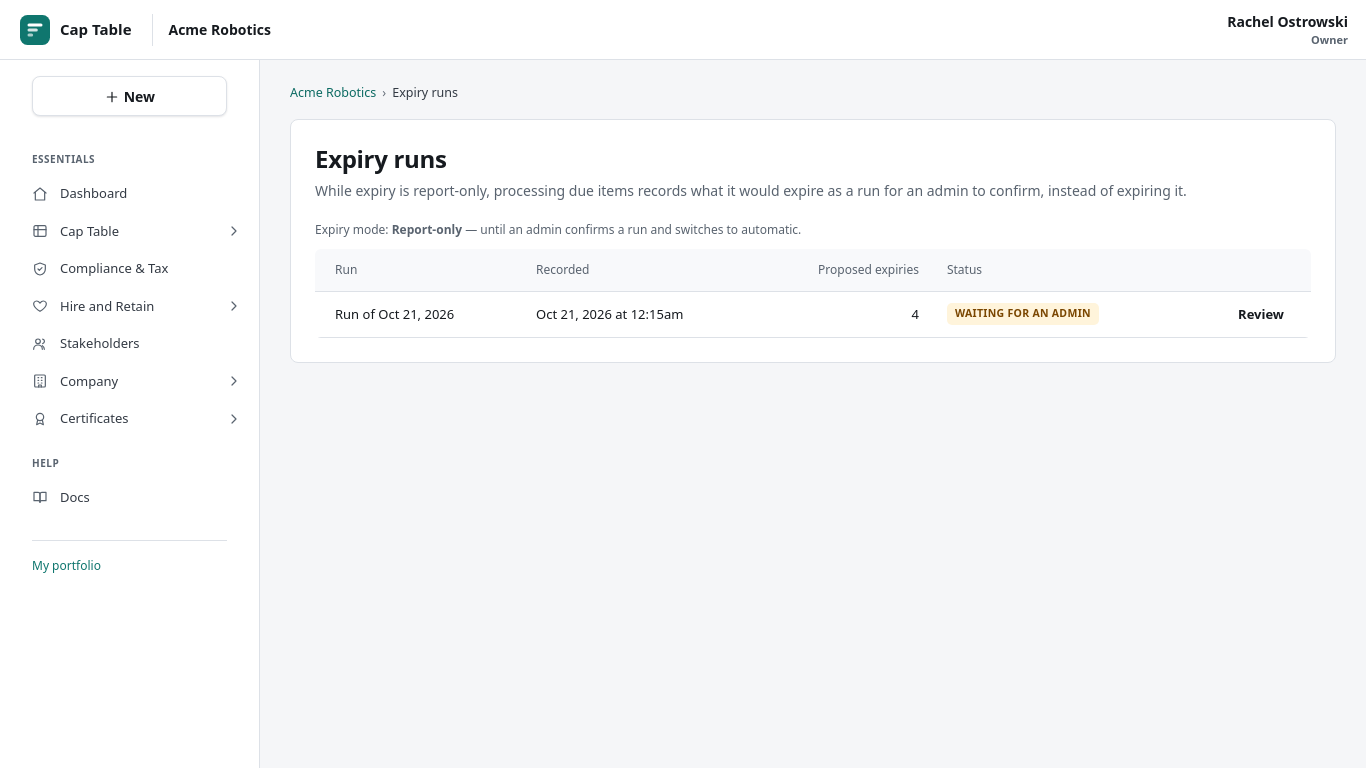
Test: expiry runs: confirming a run › checks again after a stale head (nothing expired), marks what changed, and confirms at the new head with a new key
Click the button with aria-label "Review the run of Oct 21, 2026" at [1261, 314], box top-left (1225, 298), bottom-right (1297, 330)
(page scrolled)
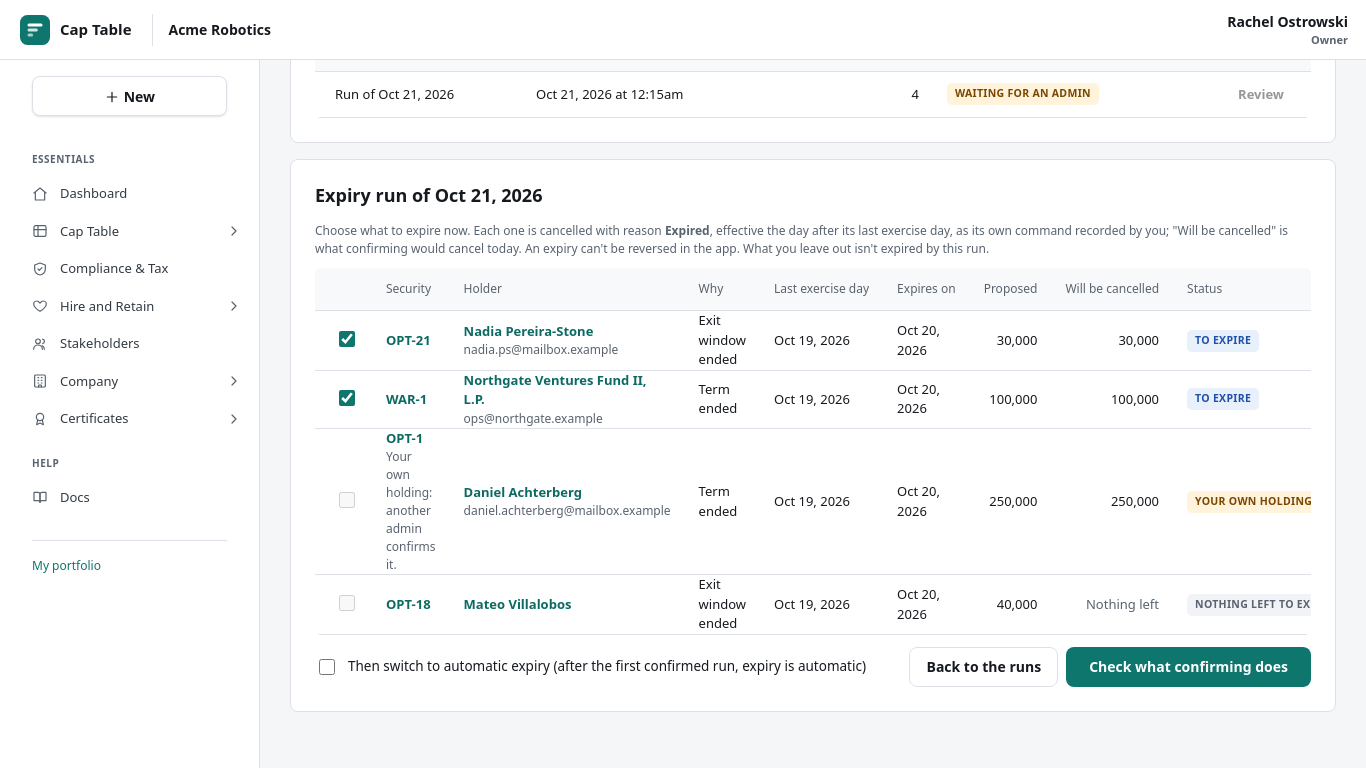
Click the button "Check what confirming does" at [1189, 667], box top-left (1066, 647), bottom-right (1311, 687)
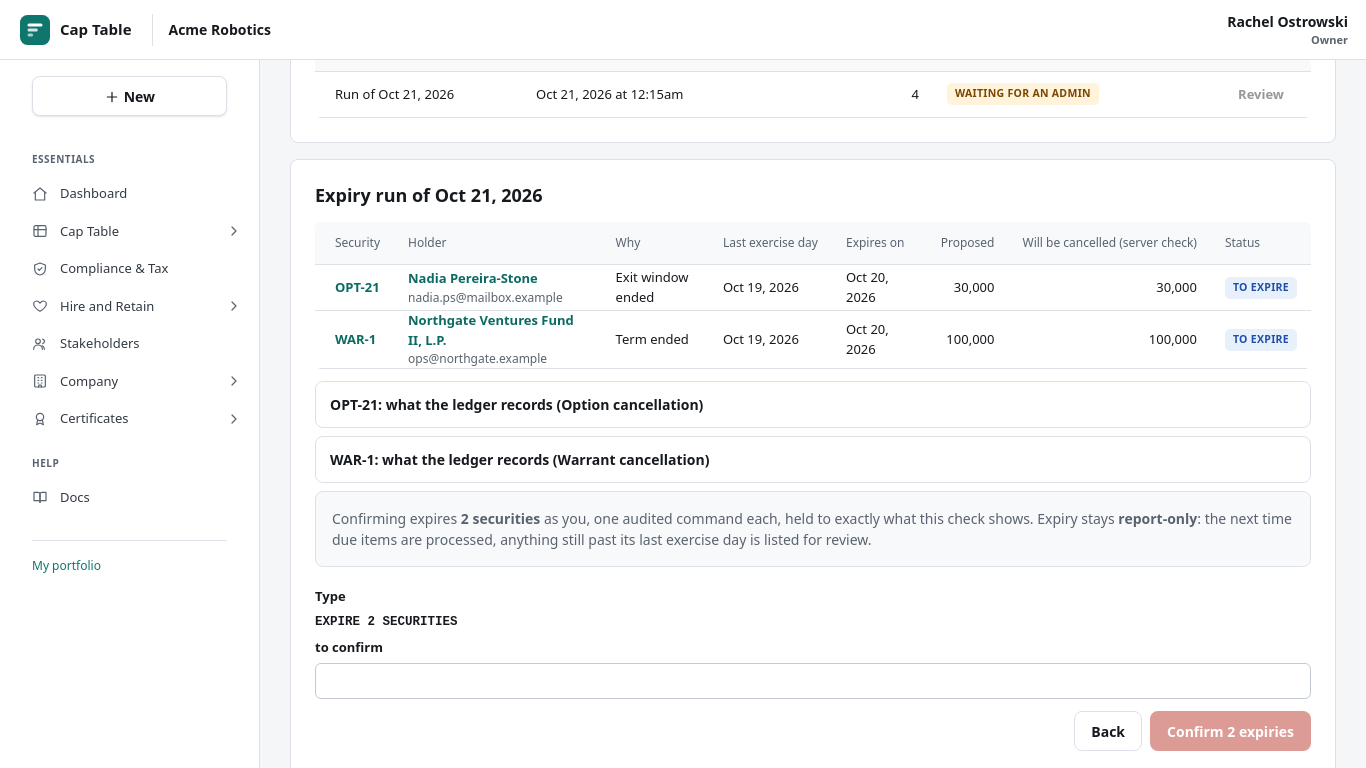
expect the field labelled "Type EXPIRE 2 SECURITIES to confirm" is shown: met
Type "EXPIRE 2 SECURITIES" into the field labelled "Type EXPIRE 2 SECURITIES to confirm" at [813, 681], box top-left (315, 663), bottom-right (1311, 699)
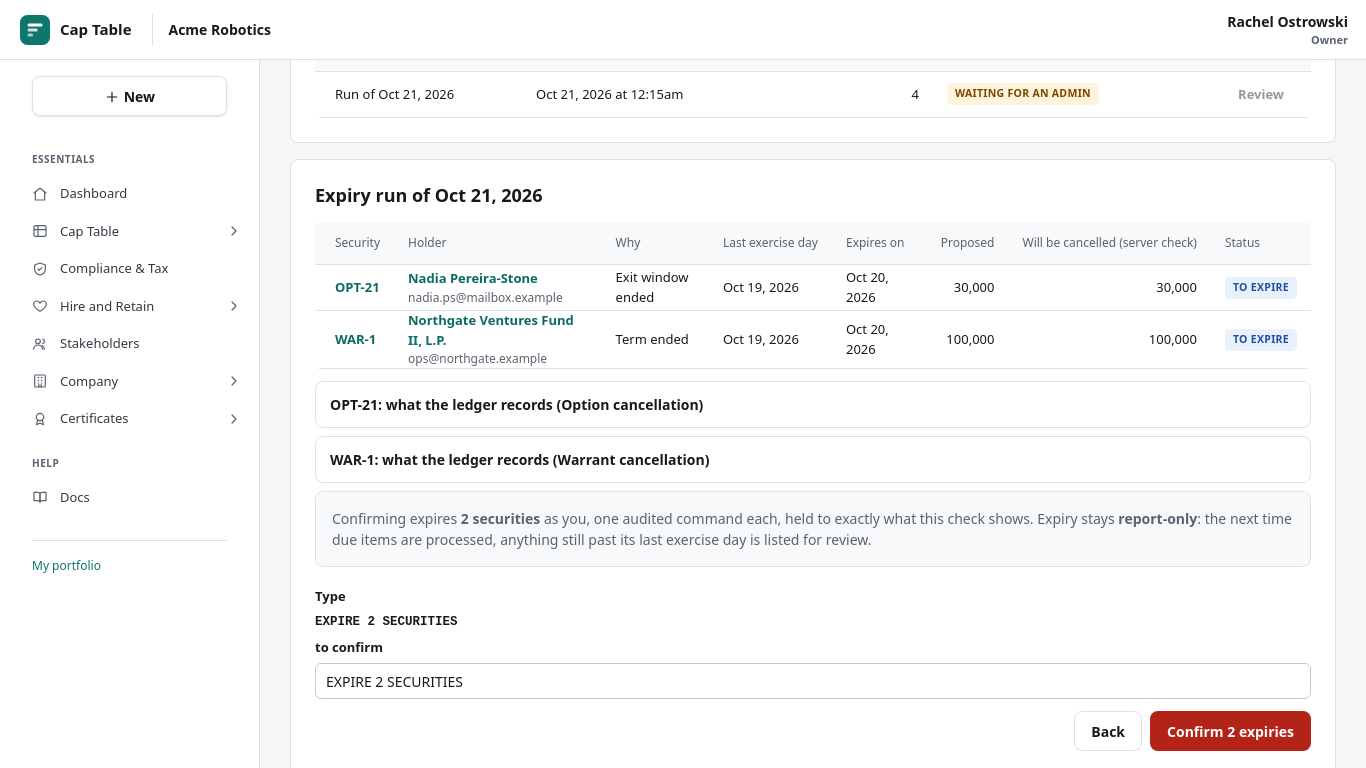
Click the button "Confirm 2 expiries" at [1230, 731], box top-left (1150, 711), bottom-right (1311, 751)
(page scrolled)
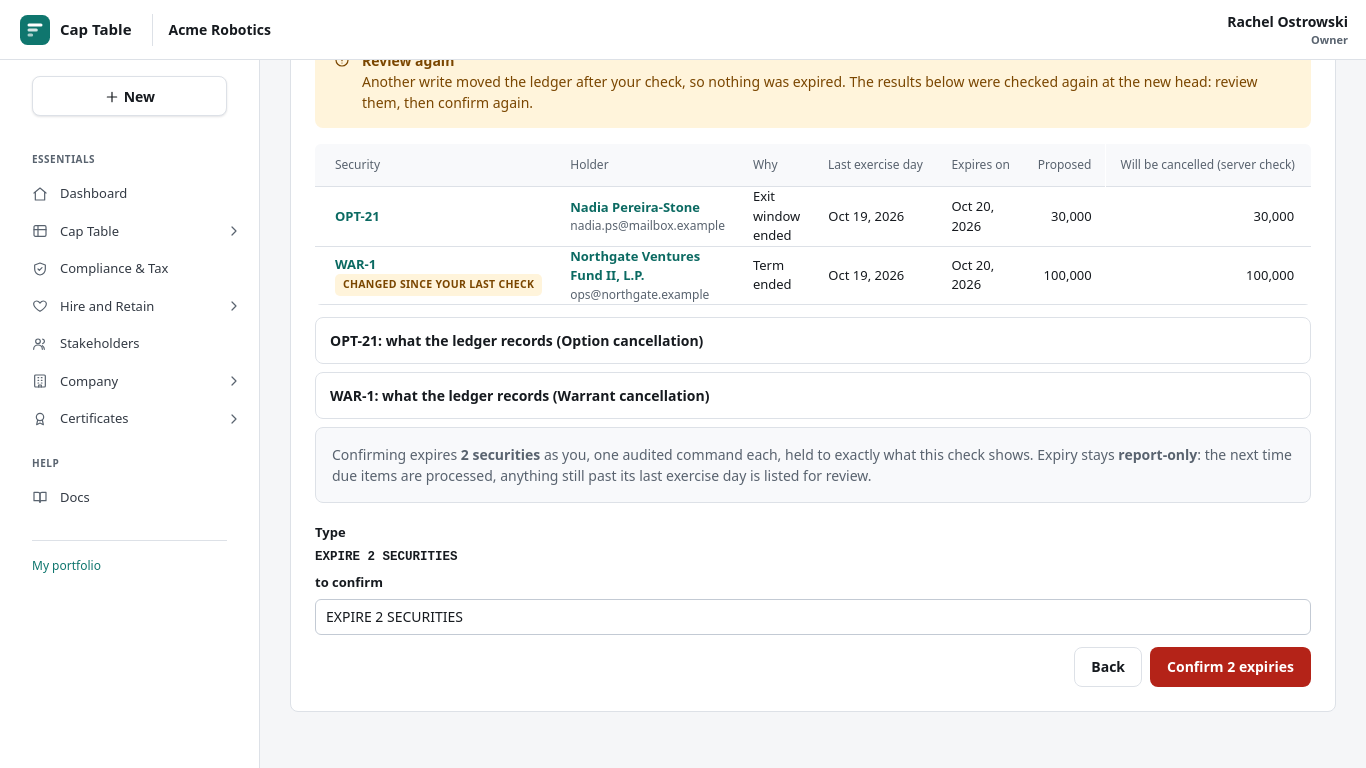
expect the row does not show "Changed since your last check": met
expect the text "Another write moved the ledger after your check, so nothing was expired" is shown: met, box top-left (362, 72), bottom-right (1258, 112)
expect the row that starts with "WAR-1" shows "Changed since your last check": met, box top-left (343, 277), bottom-right (534, 291)
Click the button "Confirm 2 expiries" at [1230, 666], box top-left (1150, 646), bottom-right (1311, 686)
(page scrolled)
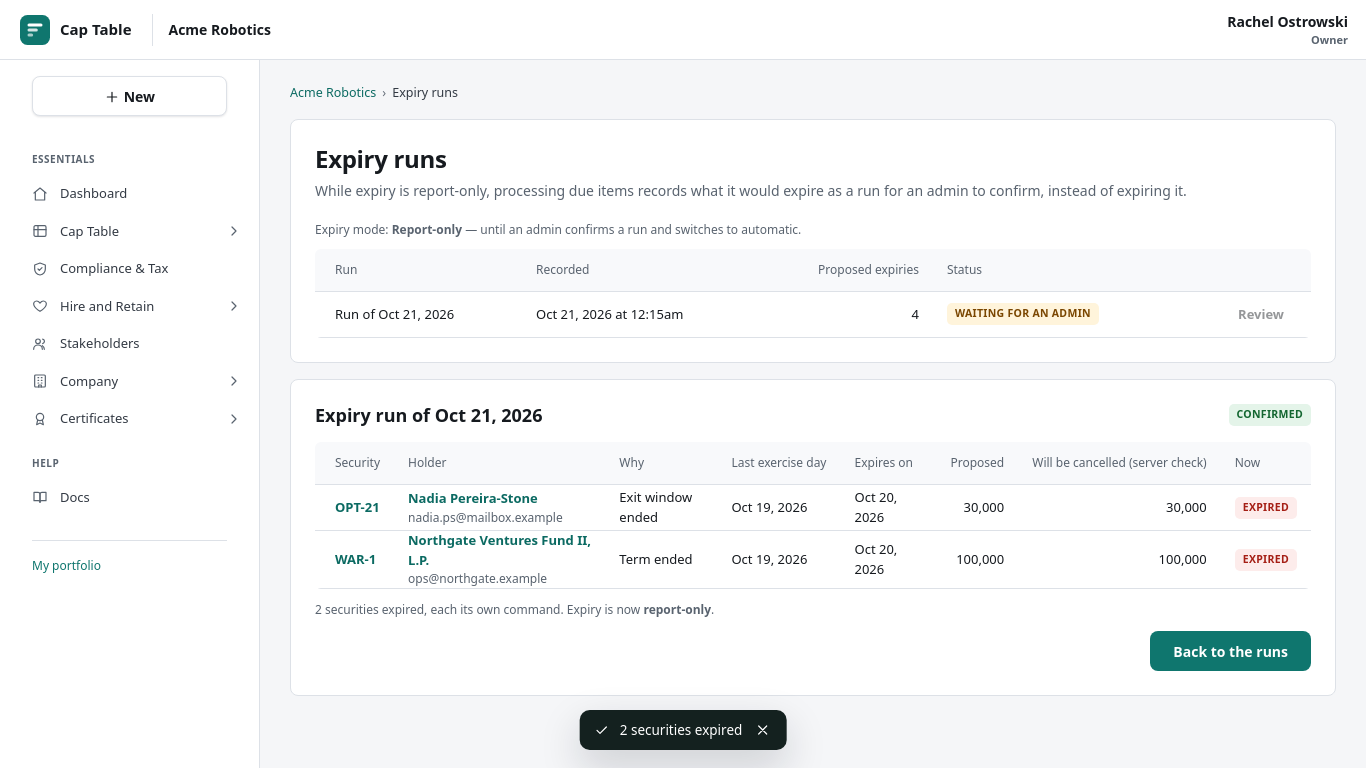
expect the text "2 securities expired" is shown: met, box top-left (620, 720), bottom-right (742, 740)
